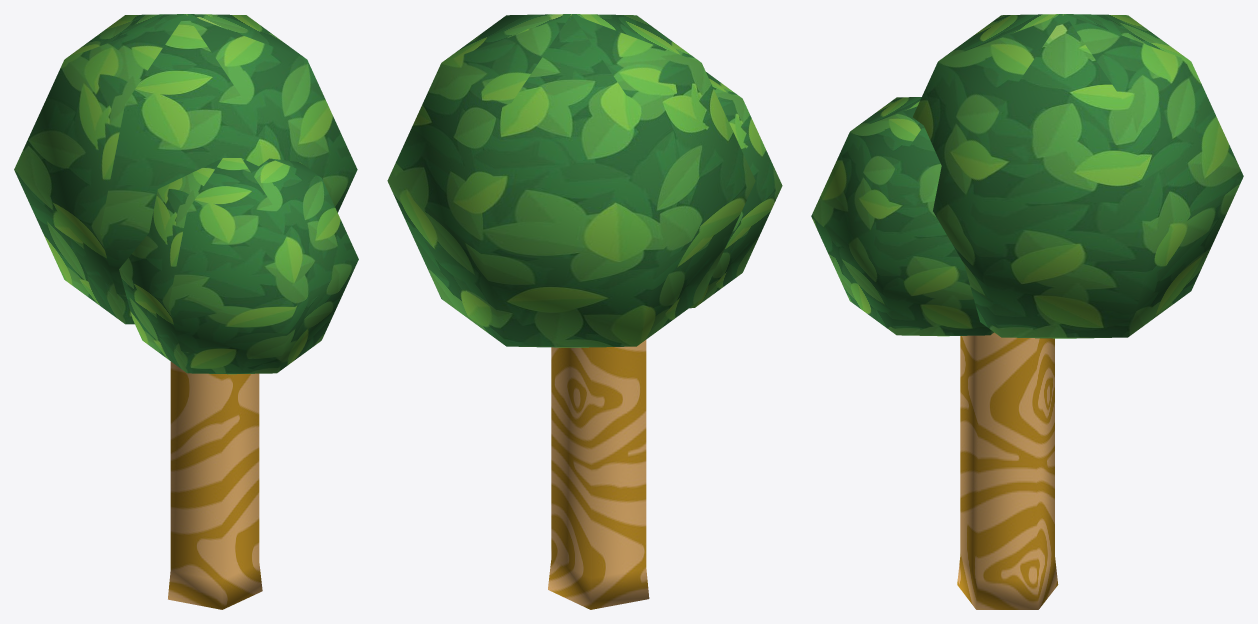
The model's file is tree.obj.
3 views of the same model, side by side, from view 1: azimuth 30°, elevation 25°; view 2: azimuth 150°, elevation 25°; view 3: azimuth 270°, elevation 25° (orthographic). The views are drawn at different scales.
Parts seen in each view (by area): view 1: Cylinder_Cylinder_Leaves, Cylinder_Cylinder_Log; view 2: Cylinder_Cylinder_Leaves, Cylinder_Cylinder_Log; view 3: Cylinder_Cylinder_Leaves, Cylinder_Cylinder_Log.
Boxes of the visible parts, bbox=[...] form: Cylinder_Cylinder_Leaves: bbox=[14, 14, 358, 374]; Cylinder_Cylinder_Log: bbox=[168, 361, 262, 609]; Cylinder_Cylinder_Leaves: bbox=[387, 14, 782, 347]; Cylinder_Cylinder_Log: bbox=[548, 340, 649, 609]; Cylinder_Cylinder_Leaves: bbox=[811, 14, 1243, 338]; Cylinder_Cylinder_Log: bbox=[957, 332, 1058, 609].
Size of the model in its own units: 4.28 by 8.79 by 5.96.
